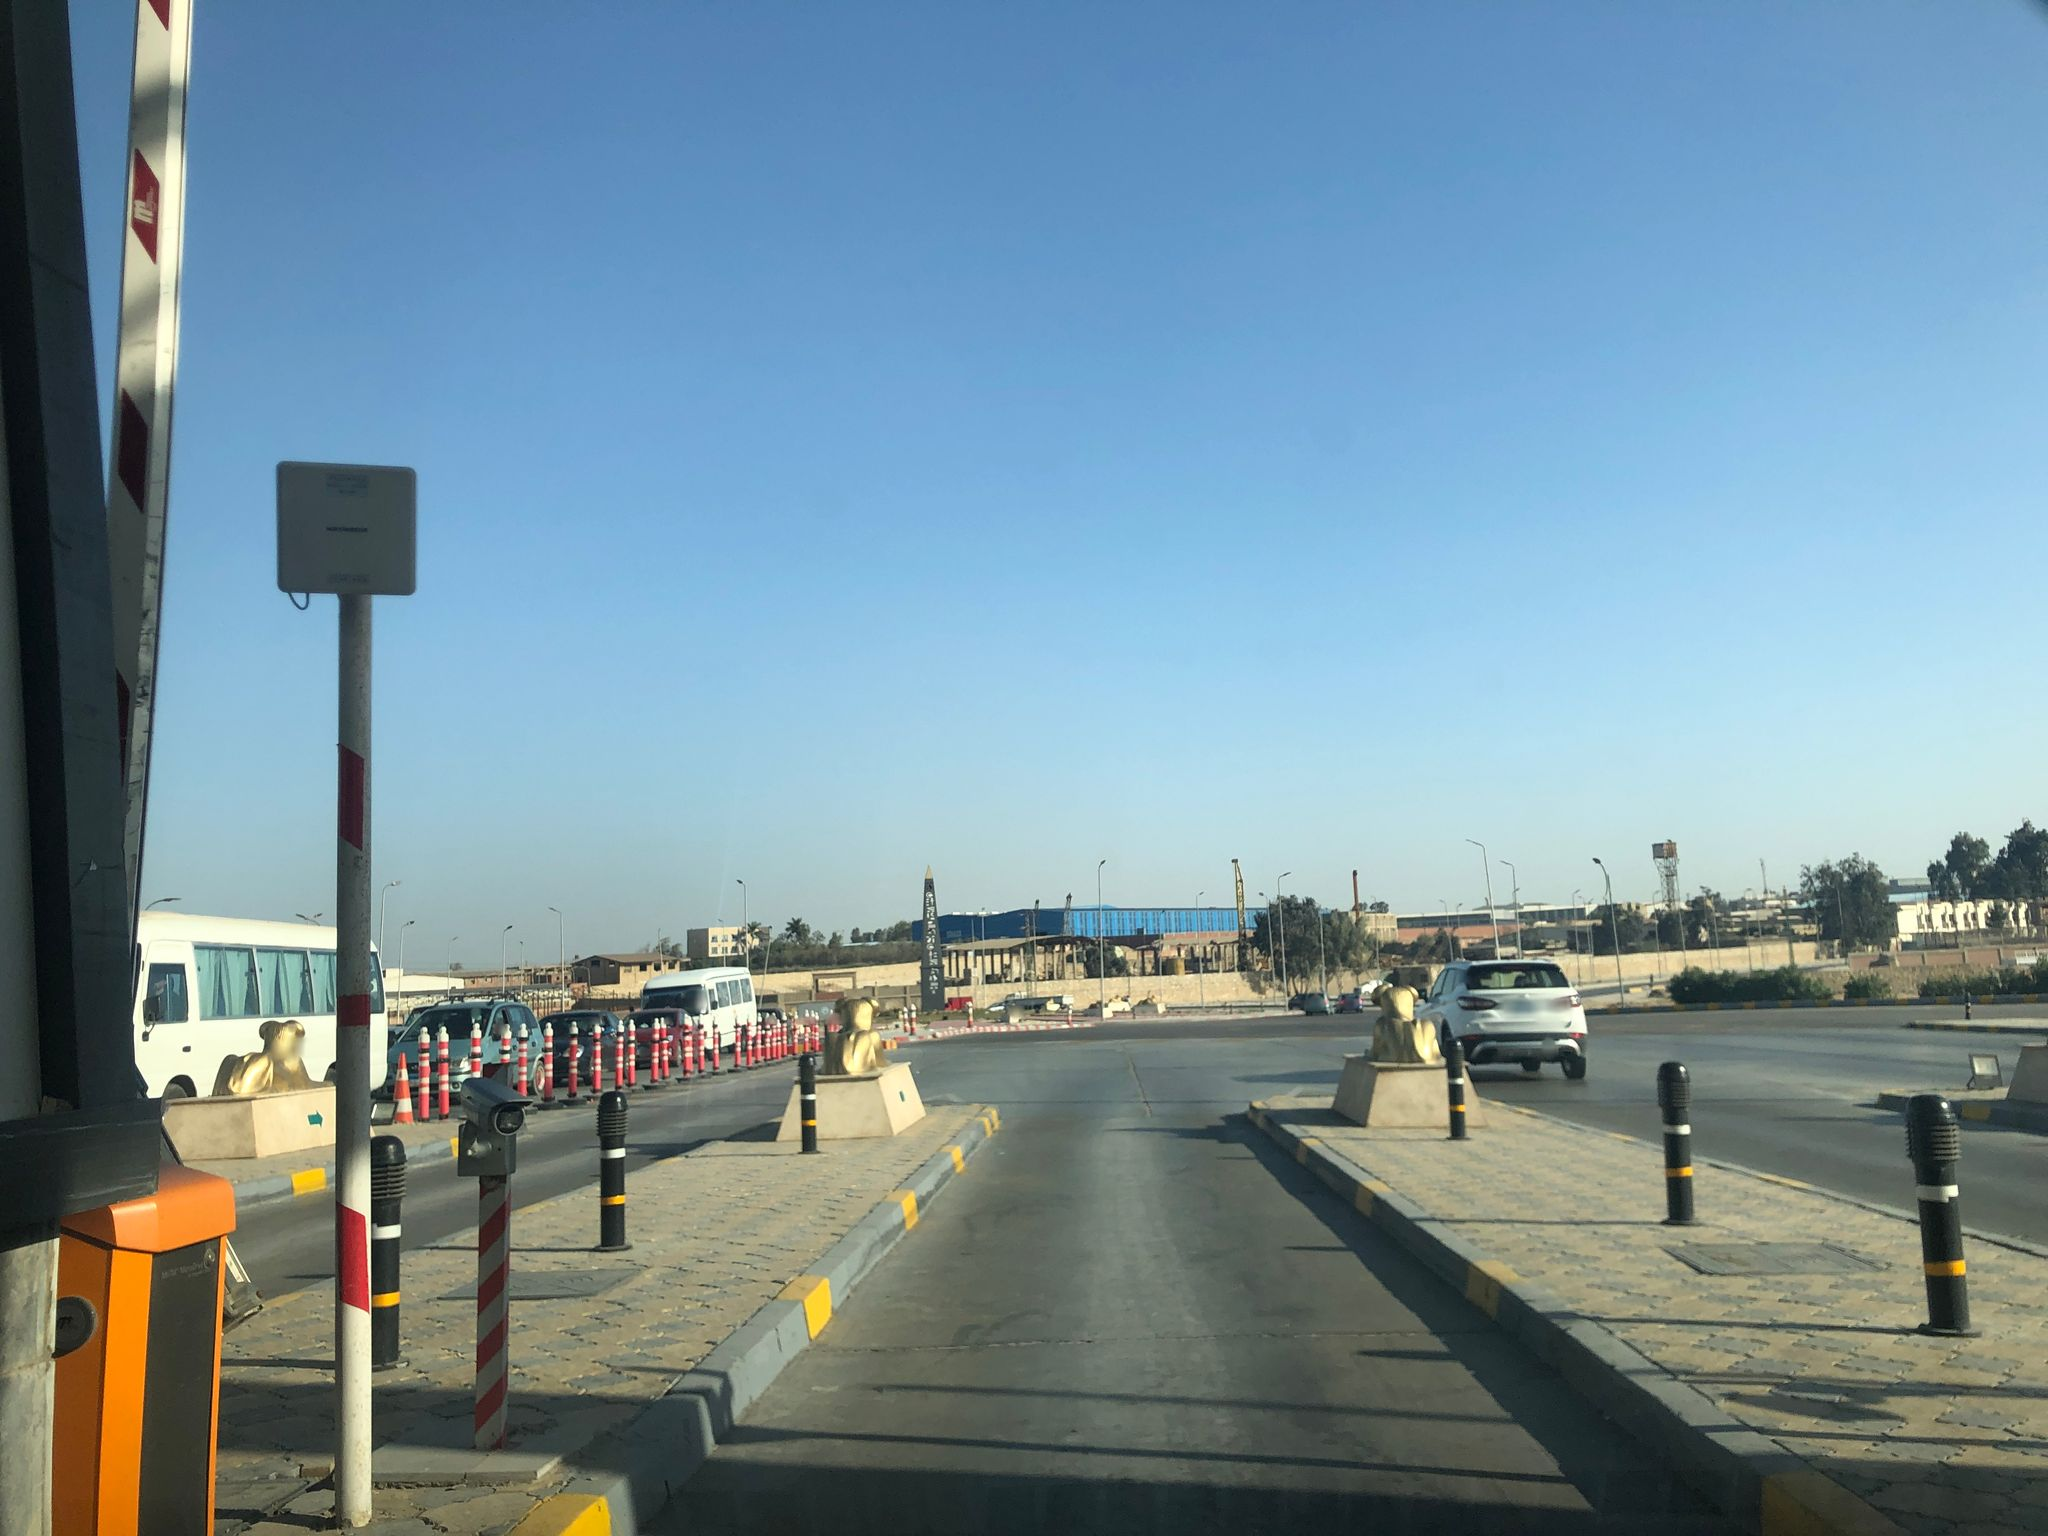bus: (118, 904, 390, 1104), (639, 965, 760, 1060)
car: (1411, 958, 1588, 1081), (368, 991, 552, 1107), (535, 1008, 640, 1084), (619, 1007, 705, 1068)
